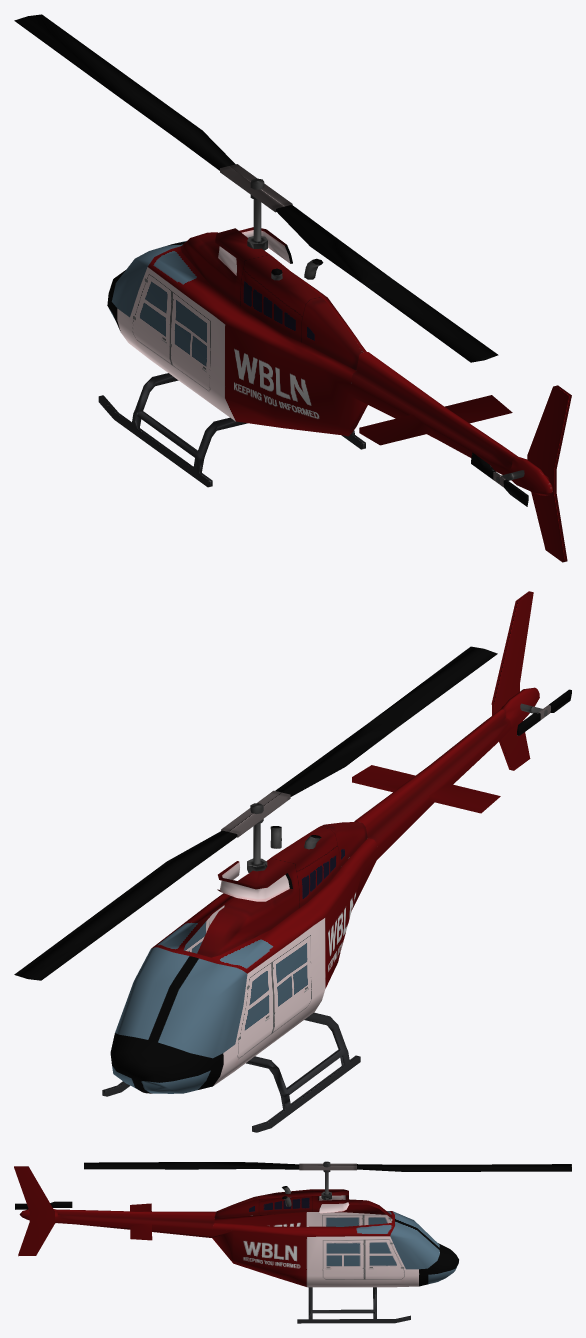
File: Vehicle_OH58.fbx
3 views of the same model, one above another, from view 1: azimuth 30°, elevation 25°; view 2: azimuth 150°, elevation 25°; view 3: azimuth 270°, elevation 25° (orthographic). The views are drawn at different scales.
Parts seen in each view (by area): view 1: Plane.011; view 2: Plane.011; view 3: Plane.011.
Boxes of the visible parts, x1=… form: Plane.011: x1=14, y1=14, x2=571, y2=562; Plane.011: x1=14, y1=591, x2=571, y2=1132; Plane.011: x1=14, y1=1161, x2=571, y2=1323.
Size of the model in its own units: 74.92 by 119 by 431.
